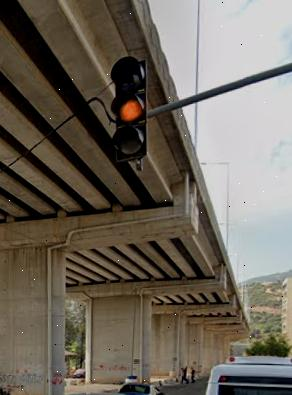yellowlight: (109, 57, 149, 154)
